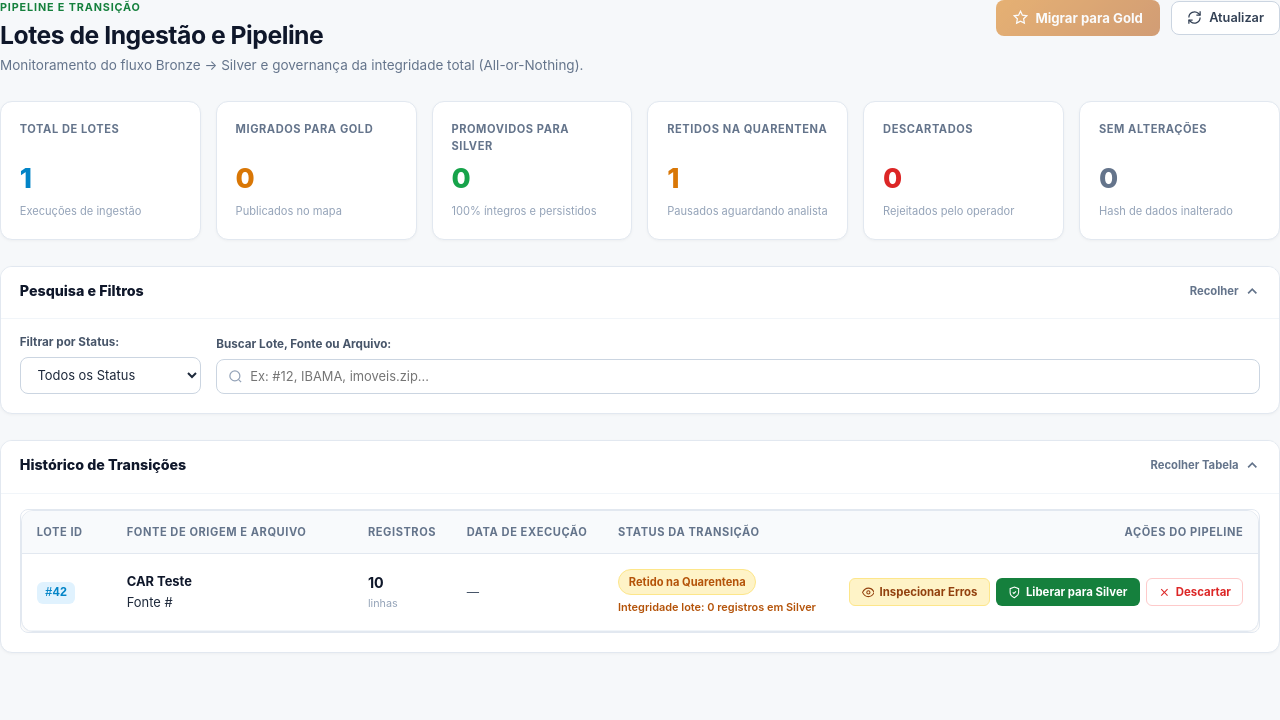
LotesView.vue - Liberação e Quarentena › exibe modal de confirmação com aviso de revalidação e bloqueio se houver erro
What coordinates should you click on to do the following:
click the button with class "btn-liberar"
I would click on:
 (1068, 592)
Its box is 996,578 -> 1140,606.
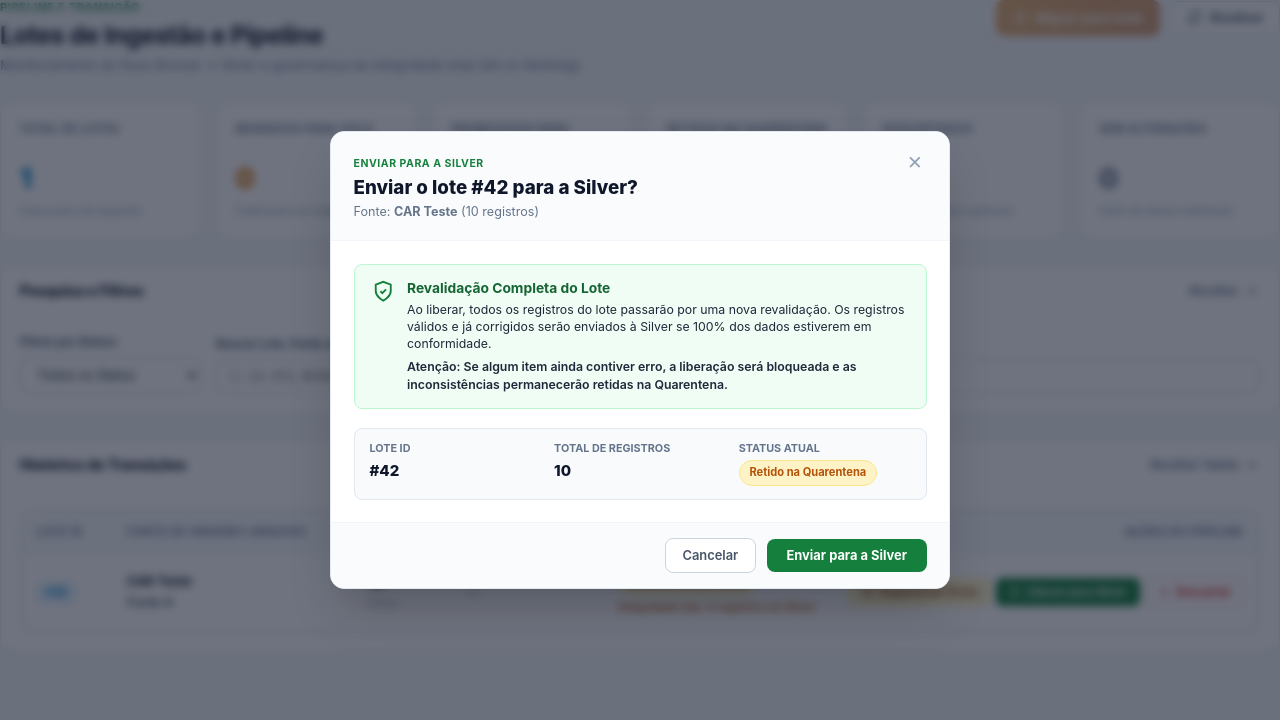
Result: the text "Enviar o lote #42 para a Silver?" is shown at 354,176 -> 638,200
Result: the text "Revalidação Completa do Lote" is shown at 407,280 -> 610,296
Result: the text "Se algum item ainda contiver erro, a liberação será bloqueada" is shown at 407,359 -> 856,392
